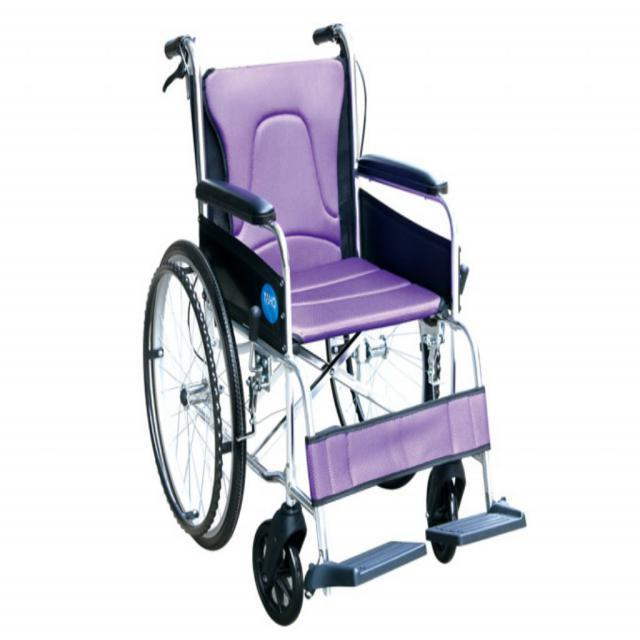wheelchair: (119, 21, 546, 639)
